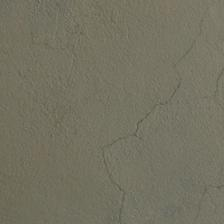Crack: (46, 30, 158, 106), (61, 89, 160, 131), (0, 110, 62, 151)
